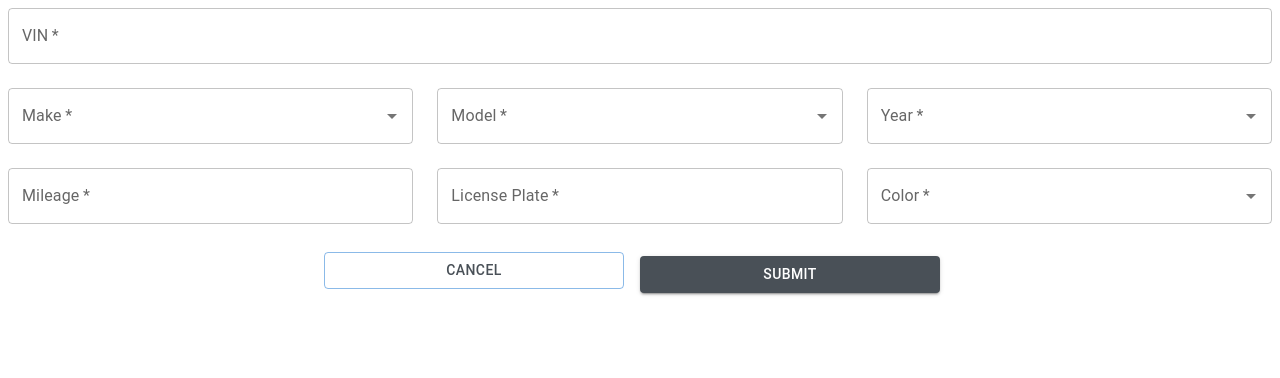
Test: disables the submit button when no selections are made
Click the button with test id "submit-button" at (790, 274), box [640,256,940,292]
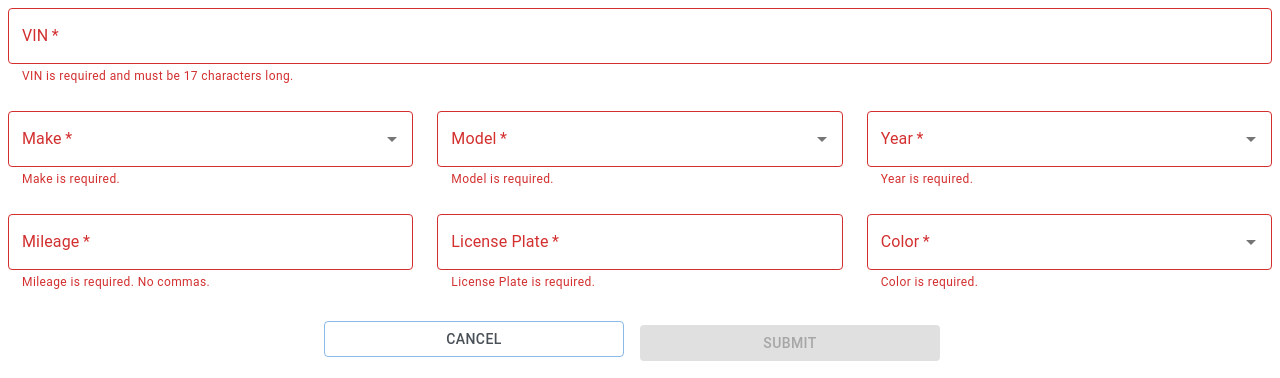
Check: the button with test id "submit-button" is disabled, box [640,325,940,361]
